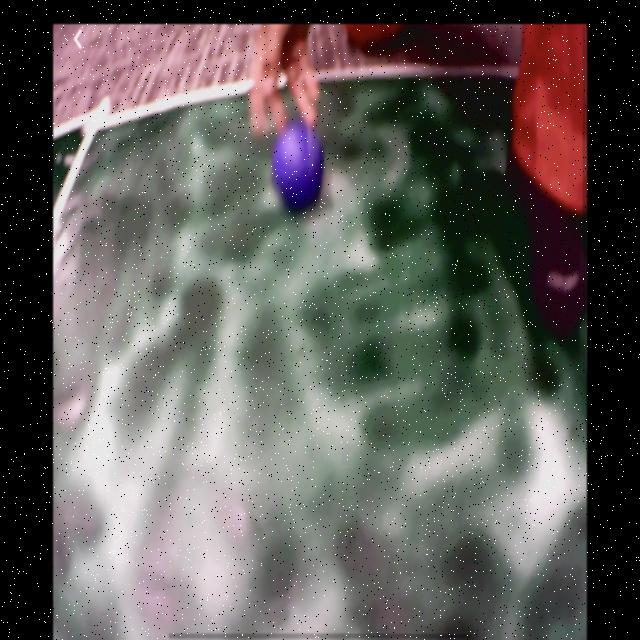ball: (274, 123, 324, 209)
